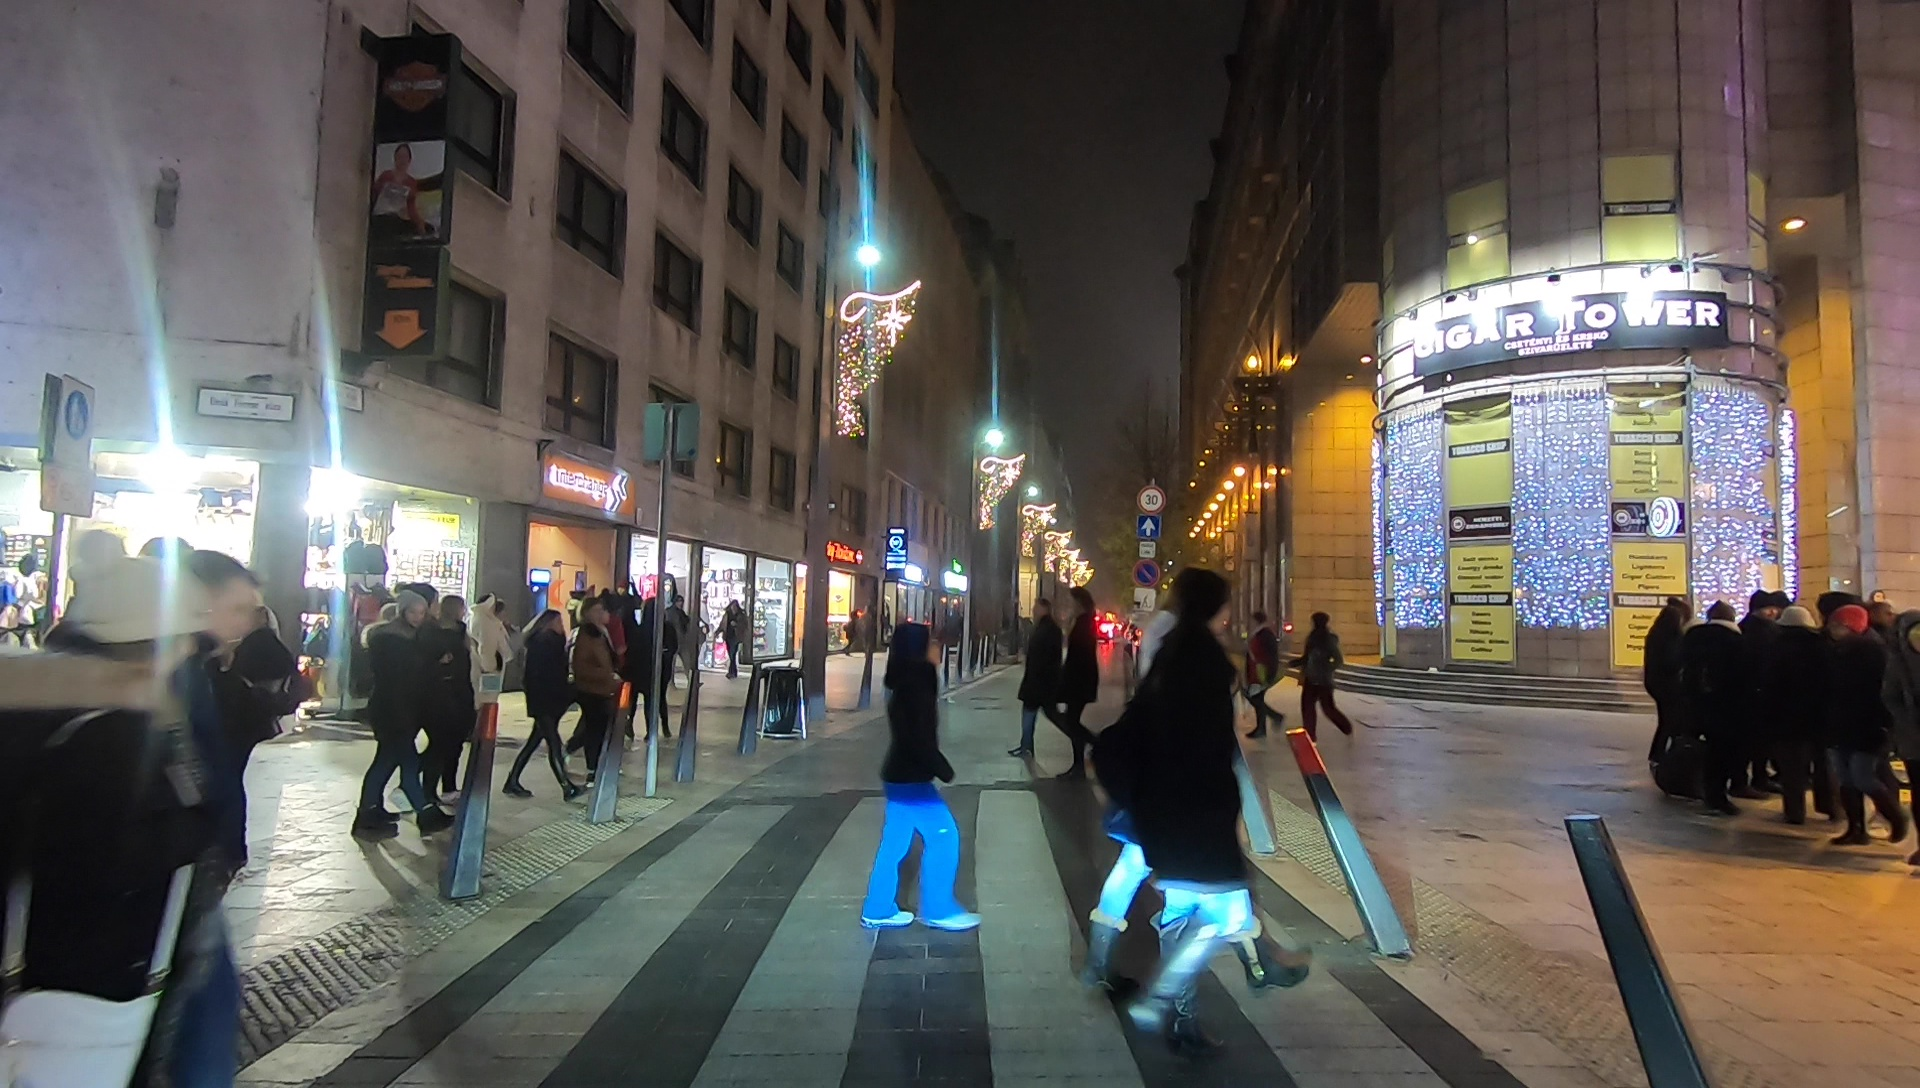person: (6, 543, 178, 1088), (1126, 570, 1246, 1052), (173, 554, 284, 1049), (863, 622, 983, 926), (1821, 604, 1905, 846), (364, 591, 434, 841), (508, 610, 588, 802), (1004, 599, 1077, 761), (1772, 608, 1827, 817), (1059, 584, 1114, 781), (1696, 604, 1743, 810), (430, 593, 469, 800), (573, 597, 617, 780), (1745, 589, 1781, 801), (1295, 609, 1353, 738), (1648, 600, 1689, 780), (1242, 608, 1287, 739), (469, 591, 506, 726), (638, 604, 670, 737), (668, 595, 702, 687), (720, 600, 743, 678)
